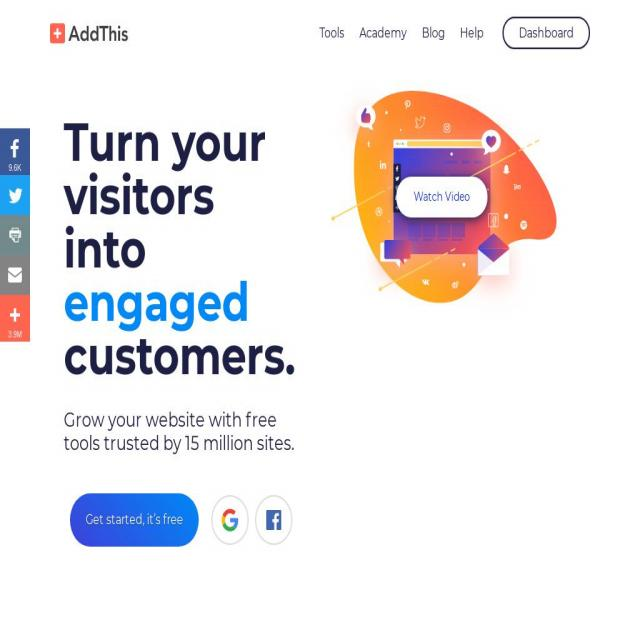follow-options: (2, 115, 36, 348)
navigation-links: (314, 17, 586, 50)
sign-up-option: (64, 468, 305, 572)
